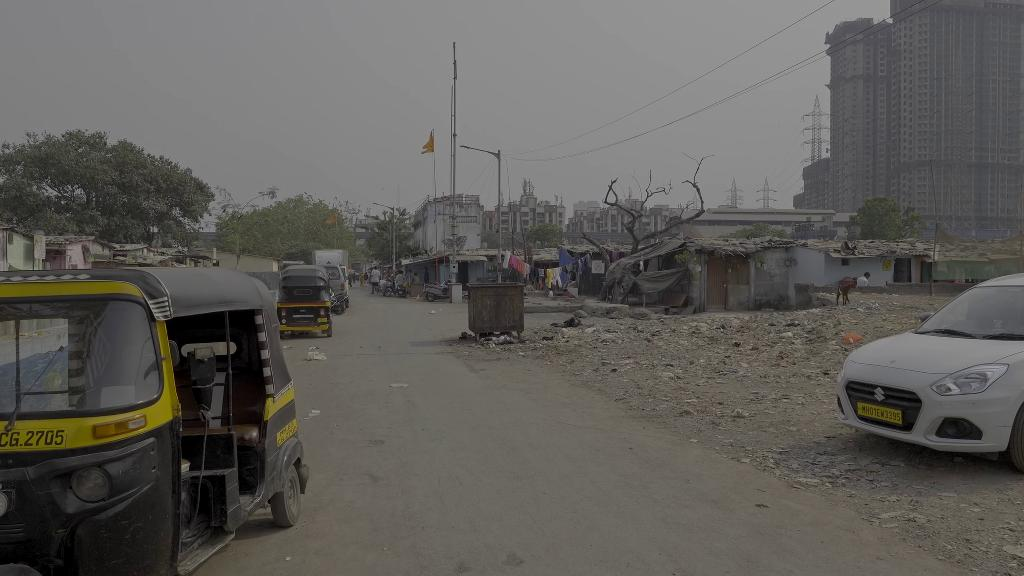dustbin: (467, 280, 528, 341)
